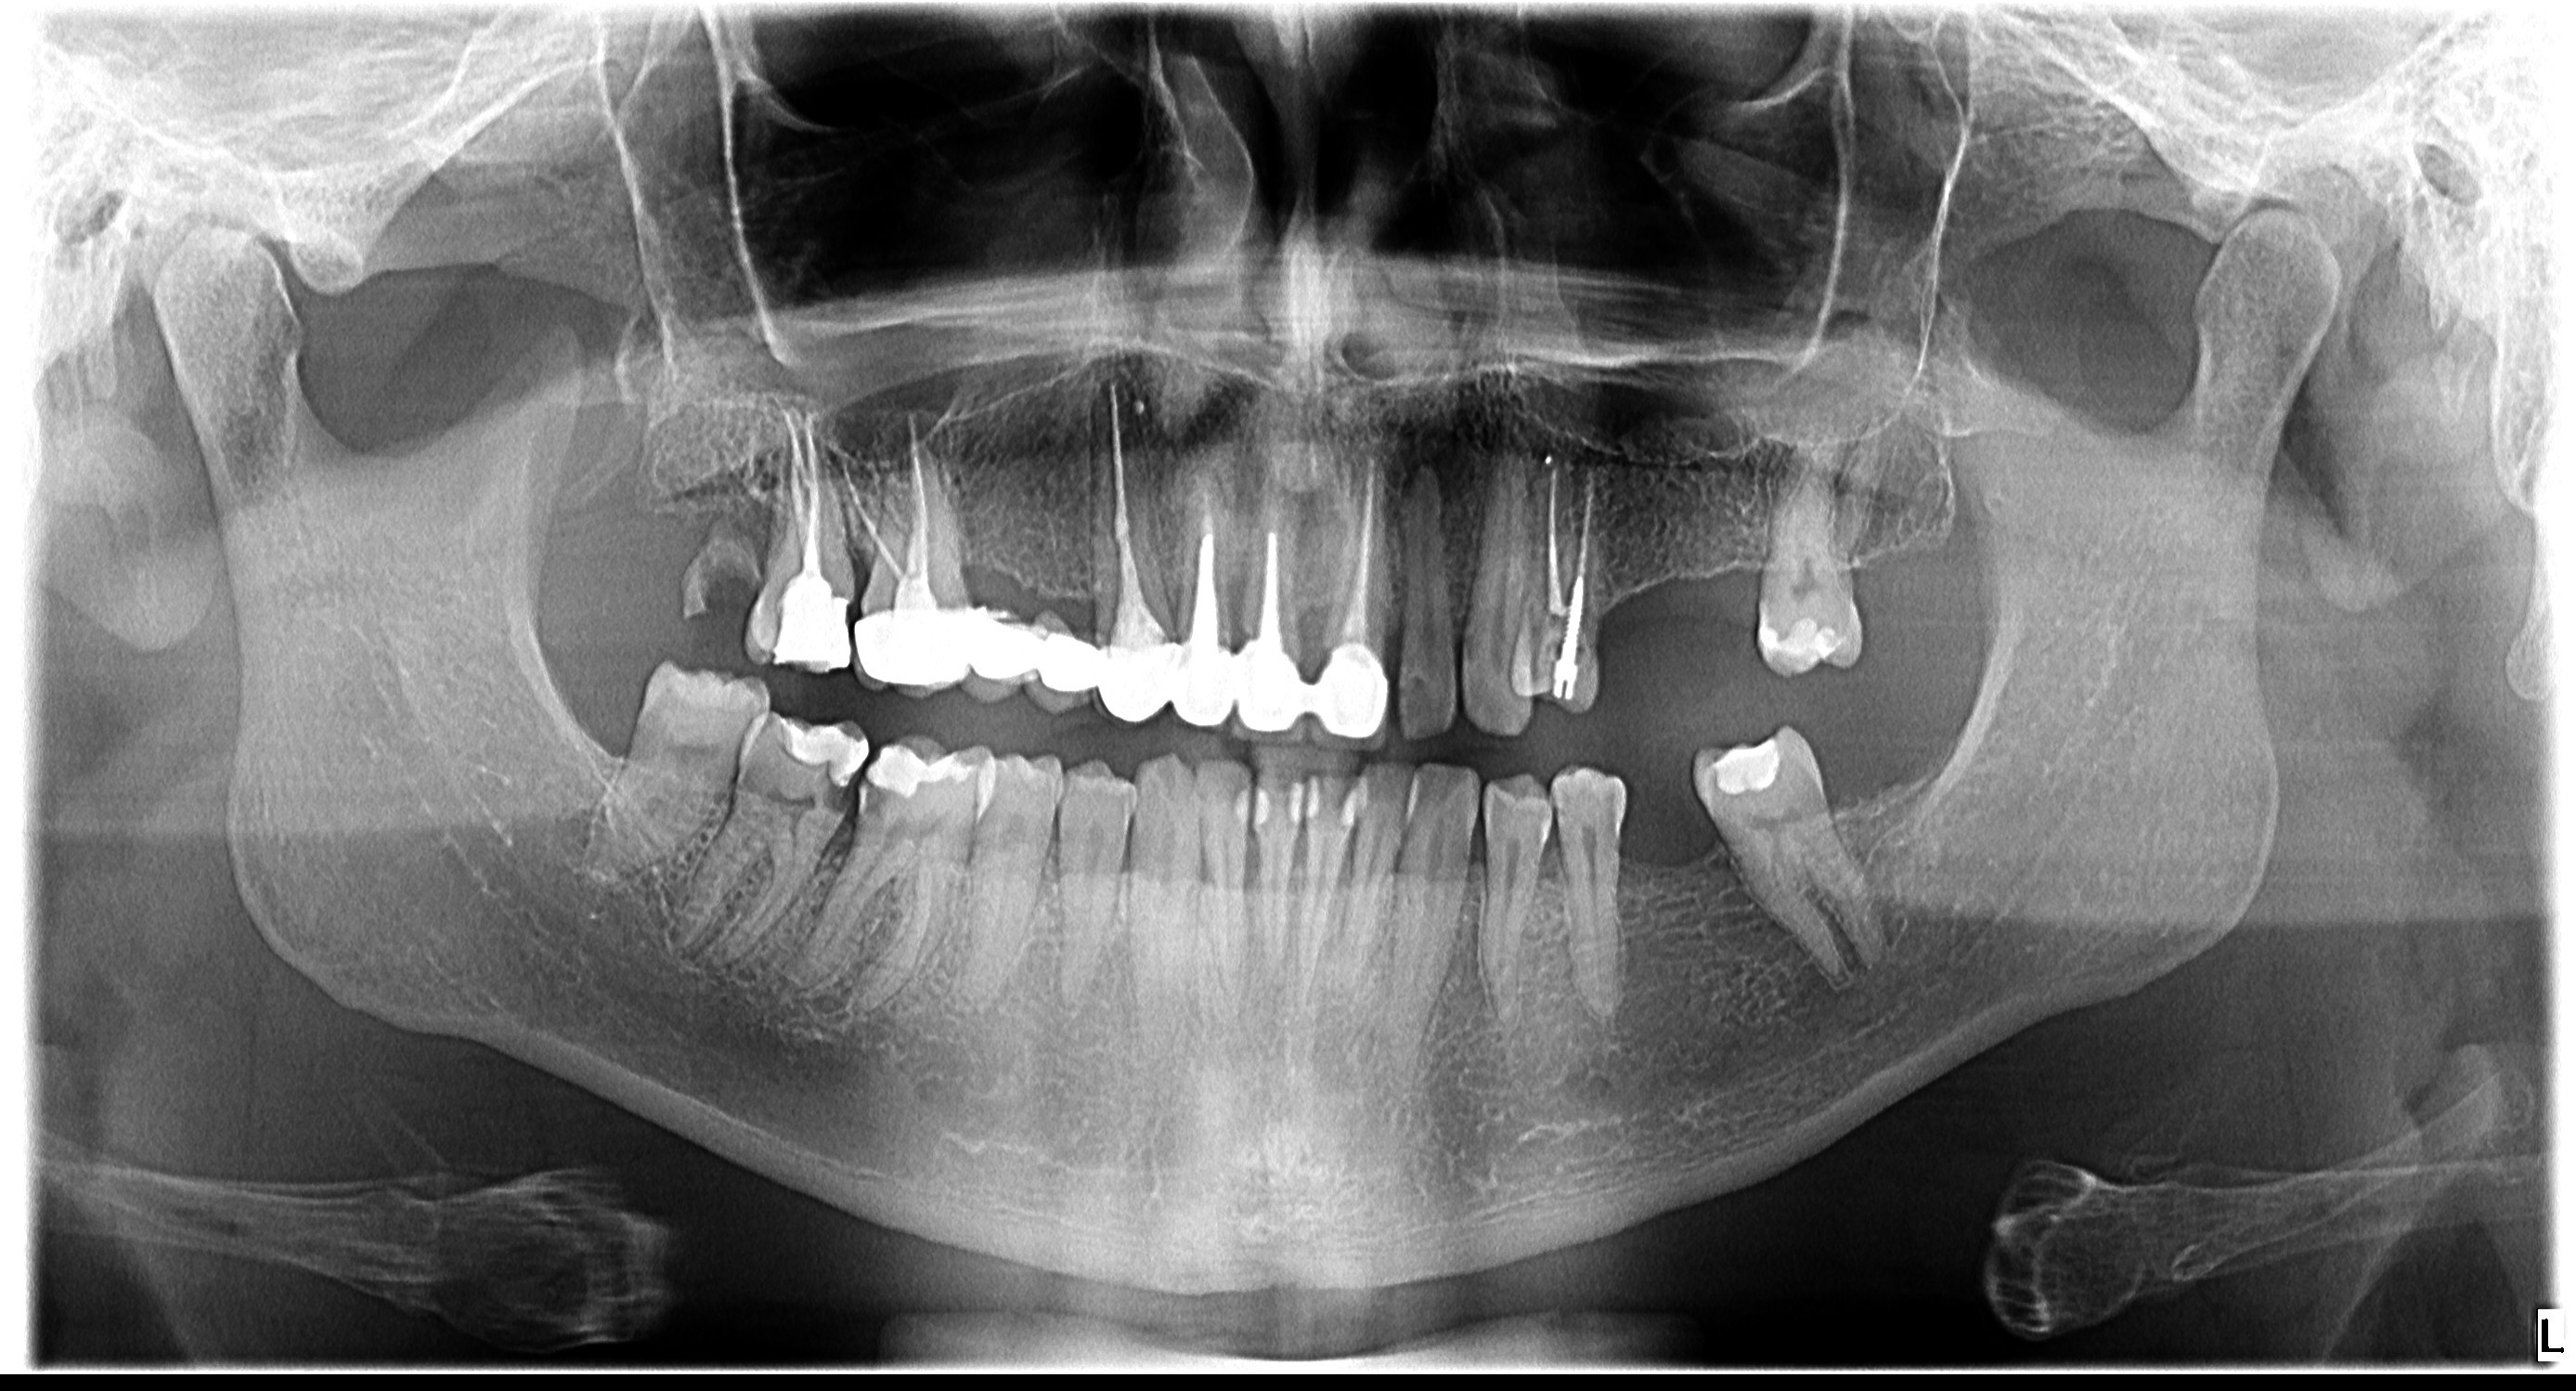CAR: (859, 612, 1388, 737)
END: (844, 408, 947, 606), (1090, 372, 1166, 636), (762, 392, 839, 562), (1540, 451, 1595, 617), (1338, 444, 1380, 644), (1184, 476, 1220, 636), (1255, 528, 1282, 646)
IMP: (775, 567, 863, 680), (774, 704, 868, 785), (1701, 725, 1804, 798), (1746, 605, 1854, 673), (861, 742, 986, 797), (1231, 769, 1258, 831), (1284, 781, 1315, 824), (1338, 783, 1359, 838), (1249, 779, 1272, 829), (1303, 778, 1318, 827)
OBT: (856, 771, 897, 822), (818, 755, 847, 824), (1234, 618, 1256, 649)
ROT: (678, 476, 757, 615)
